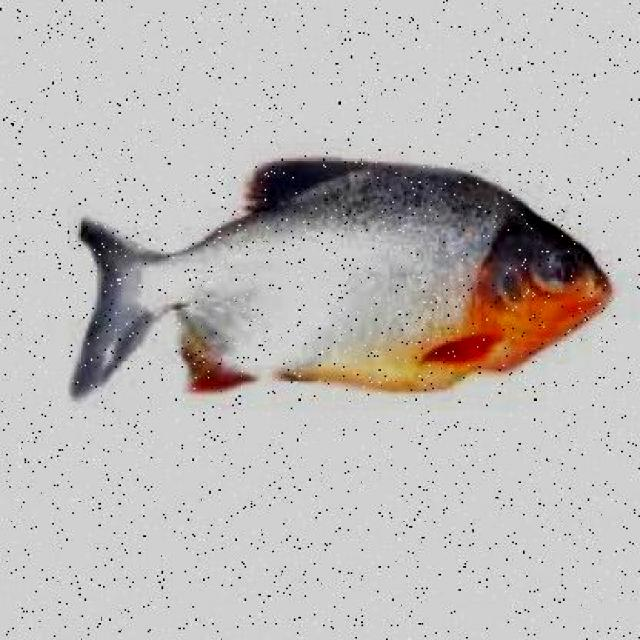ikan-pacu: (68, 159, 612, 395)
